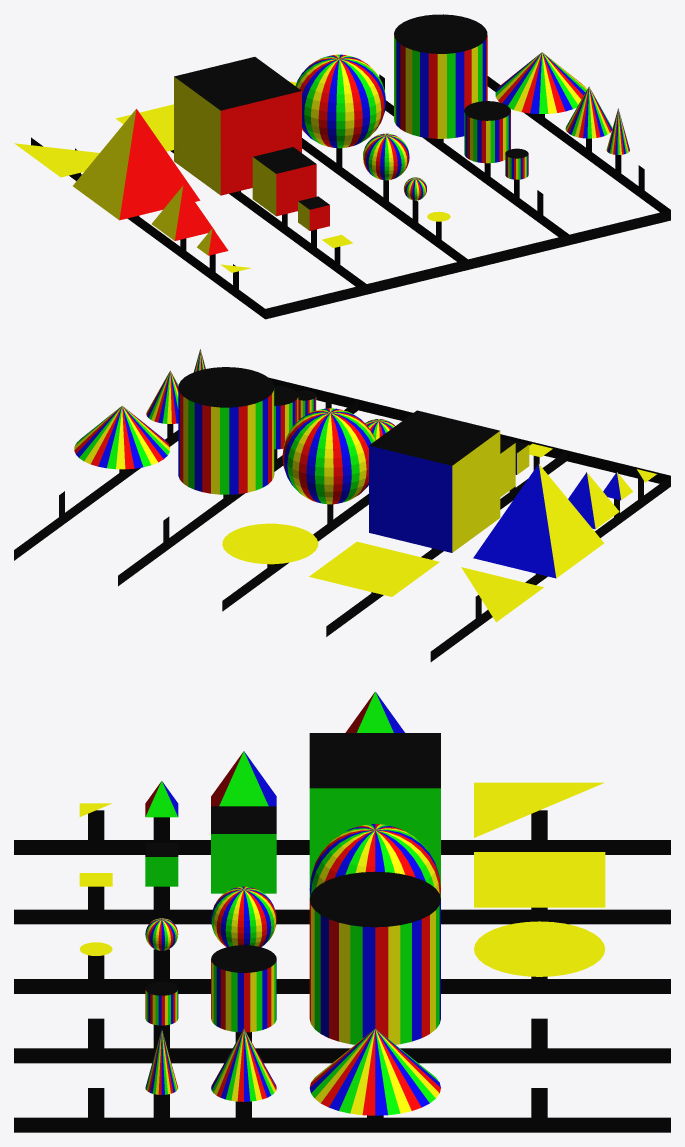
Rendered from testStuff.obj.
3 views of the same model, one above another, from view 1: azimuth 30°, elevation 25°; view 2: azimuth 150°, elevation 25°; view 3: azimuth 270°, elevation 25° (orthographic). The views are drawn at different scales.
Visible parts, largest first — view 1: Plane.001, Cube.006, Cylinder.002, Cube.003, Sphere.002, Cone.002, Cube.002, Circle.001, Cylinder.001, Cube.004, Sphere.001, Cone.001 (+4 smaller); view 2: Cube.006, Cylinder.002, Plane.001, Circle.001, Cube.003, Sphere.002, Cone.002, Cube.004, Cylinder.001, Cone.001, Cube.002, Cube.001; view 3: Plane.001, Cylinder.002, Circle.001, Cube.006, Cone.002, Cube.002, Cylinder.001, Sphere.002, Sphere.001, Cone.001, Cube.004, Cube.005 (+5 smaller).
Part boxes in pixels (bbox=[...]): Plane.001: bbox=[31, 74, 670, 319]; Cube.006: bbox=[174, 57, 301, 195]; Cylinder.002: bbox=[394, 14, 487, 138]; Cube.003: bbox=[73, 109, 200, 220]; Sphere.002: bbox=[295, 54, 385, 148]; Cone.002: bbox=[495, 52, 586, 113]; Cube.002: bbox=[252, 147, 316, 216]; Circle.001: bbox=[14, 81, 450, 272]; Cylinder.001: bbox=[464, 101, 510, 163]; Cube.004: bbox=[152, 185, 214, 240]; Sphere.001: bbox=[363, 133, 409, 180]; Cone.001: bbox=[565, 86, 612, 138]; Cube.006: bbox=[369, 410, 500, 552]; Cylinder.002: bbox=[178, 367, 274, 494]; Plane.001: bbox=[14, 377, 670, 661]; Circle.001: bbox=[222, 443, 656, 622]; Cube.003: bbox=[473, 464, 604, 578]; Sphere.002: bbox=[282, 408, 375, 504]; Cone.002: bbox=[74, 405, 169, 469]; Cube.004: bbox=[568, 472, 619, 529]; Cylinder.001: bbox=[274, 385, 298, 449]; Cone.001: bbox=[146, 370, 178, 423]; Cube.002: bbox=[500, 439, 515, 497]; Cube.001: bbox=[603, 472, 632, 500]; Plane.001: bbox=[14, 810, 670, 1132]; Cylinder.002: bbox=[309, 871, 440, 1044]; Circle.001: bbox=[79, 782, 605, 976]; Cube.006: bbox=[309, 733, 440, 898]; Cone.002: bbox=[309, 1028, 440, 1115]; Cube.002: bbox=[211, 806, 276, 893]; Cylinder.001: bbox=[211, 945, 276, 1032]; Sphere.002: bbox=[309, 824, 440, 895]; Sphere.001: bbox=[211, 886, 276, 946]; Cone.001: bbox=[211, 1029, 276, 1101]; Cube.004: bbox=[211, 751, 276, 806]; Cube.005: bbox=[145, 843, 178, 886].
Bounding box in the file's own units: 48 × 11 × 40.
